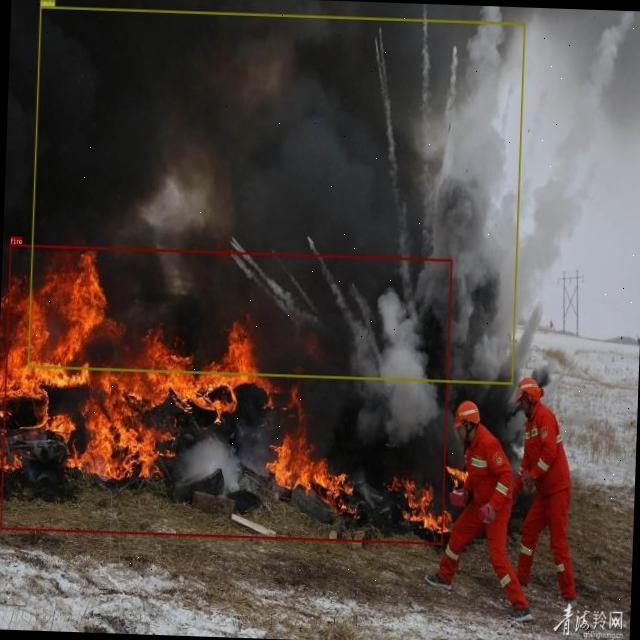fire: (0, 243, 452, 544)
smoke: (28, 5, 524, 384)
